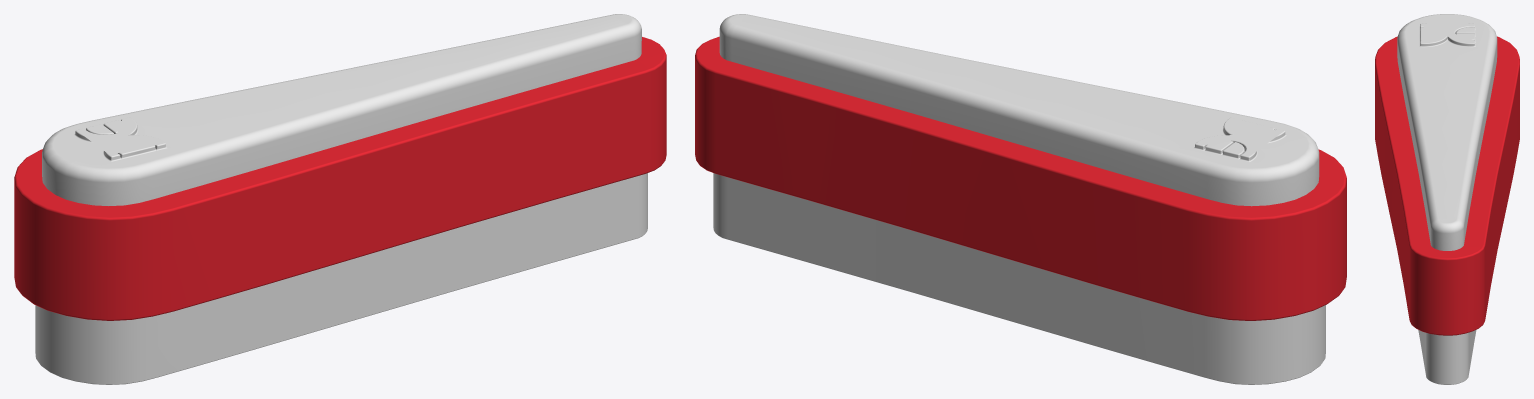
Rendered from Flipper, Data East (3in) - Hipoly.fbx.
The picture shows the model from 3 angles, left to right: view 1: azimuth 30°, elevation 25°; view 2: azimuth 150°, elevation 25°; view 3: azimuth 270°, elevation 25°; orthographic projection. The views are drawn at different scales.
Visible parts, largest first — view 1: Flipper, Data East (3"); view 2: Flipper, Data East (3"); view 3: Flipper, Data East (3").
Boxes of the visible parts, x1,y1,x2,y2 form: Flipper, Data East (3"): (14, 14, 666, 384); Flipper, Data East (3"): (695, 14, 1346, 384); Flipper, Data East (3"): (1375, 14, 1519, 384).
Bounding box in the file's own units: 8.01 × 2.59 × 2.12.
